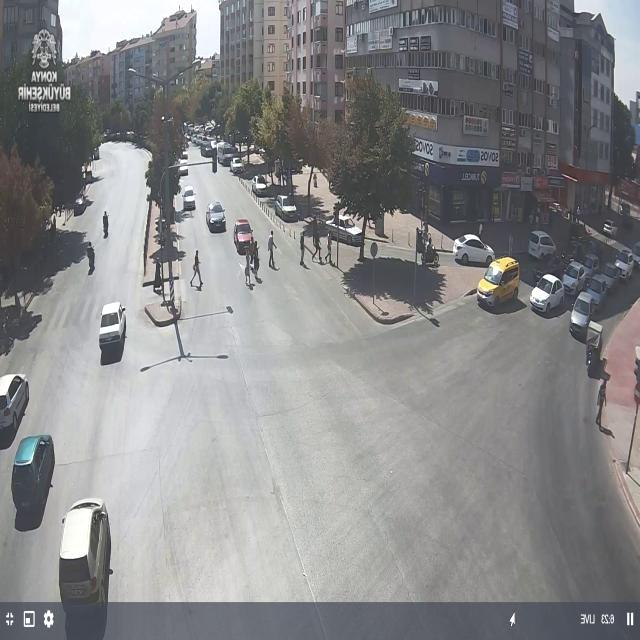Car: (59, 499, 112, 613), (11, 436, 55, 524), (0, 373, 29, 438), (96, 300, 128, 351), (530, 274, 564, 313), (452, 234, 494, 265), (560, 260, 594, 296), (325, 214, 363, 246), (570, 292, 596, 334), (581, 276, 611, 310), (528, 230, 556, 260), (597, 262, 624, 289), (233, 219, 254, 253), (613, 250, 635, 280), (274, 194, 298, 221), (206, 199, 225, 229), (578, 252, 600, 273), (182, 185, 196, 211), (251, 175, 268, 196), (602, 219, 618, 237), (74, 196, 87, 216), (230, 158, 244, 174)
Van: (477, 257, 519, 308), (217, 142, 234, 166)
